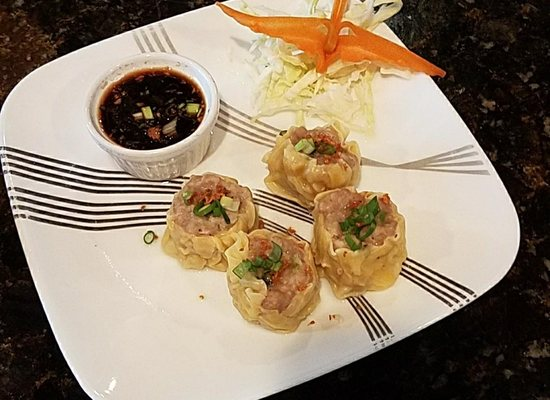sushi: (86, 52, 221, 181)
